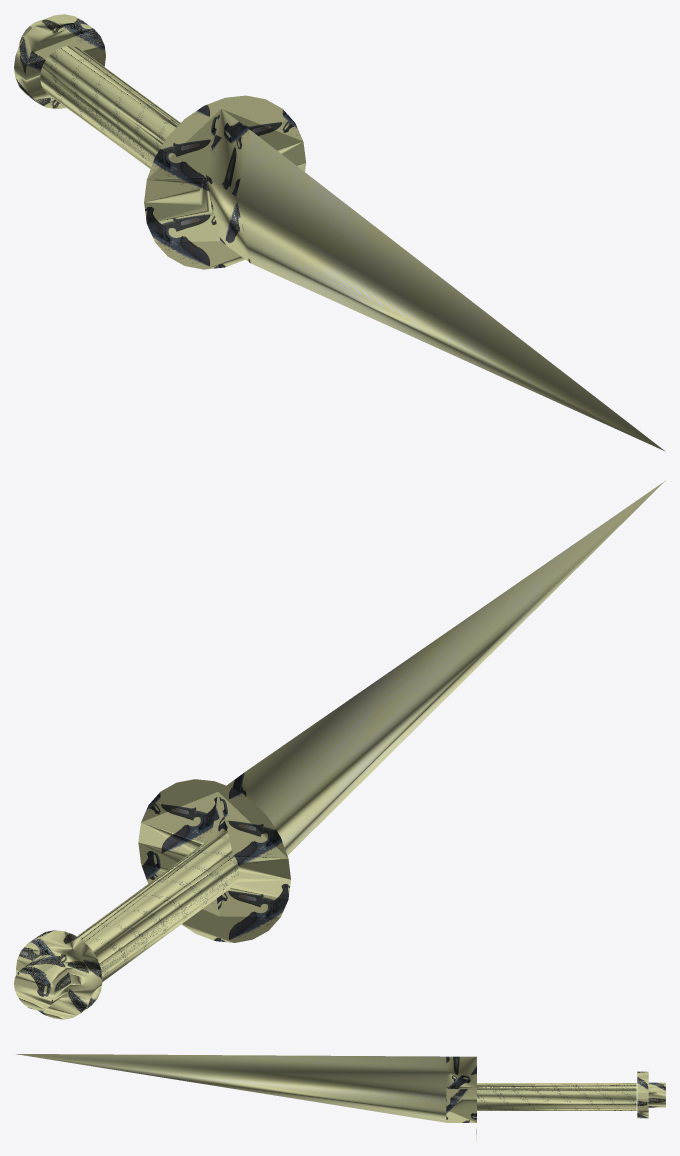
The model's file is model_align.obj.
The picture shows the model from 3 angles, top to bottom: view 1: azimuth 30°, elevation 25°; view 2: azimuth 150°, elevation 25°; view 3: azimuth 270°, elevation 25°; orthographic projection. The views are drawn at different scales.
Bounding box in the file's own units: 0.0314 × 0.0313 × 0.217.
